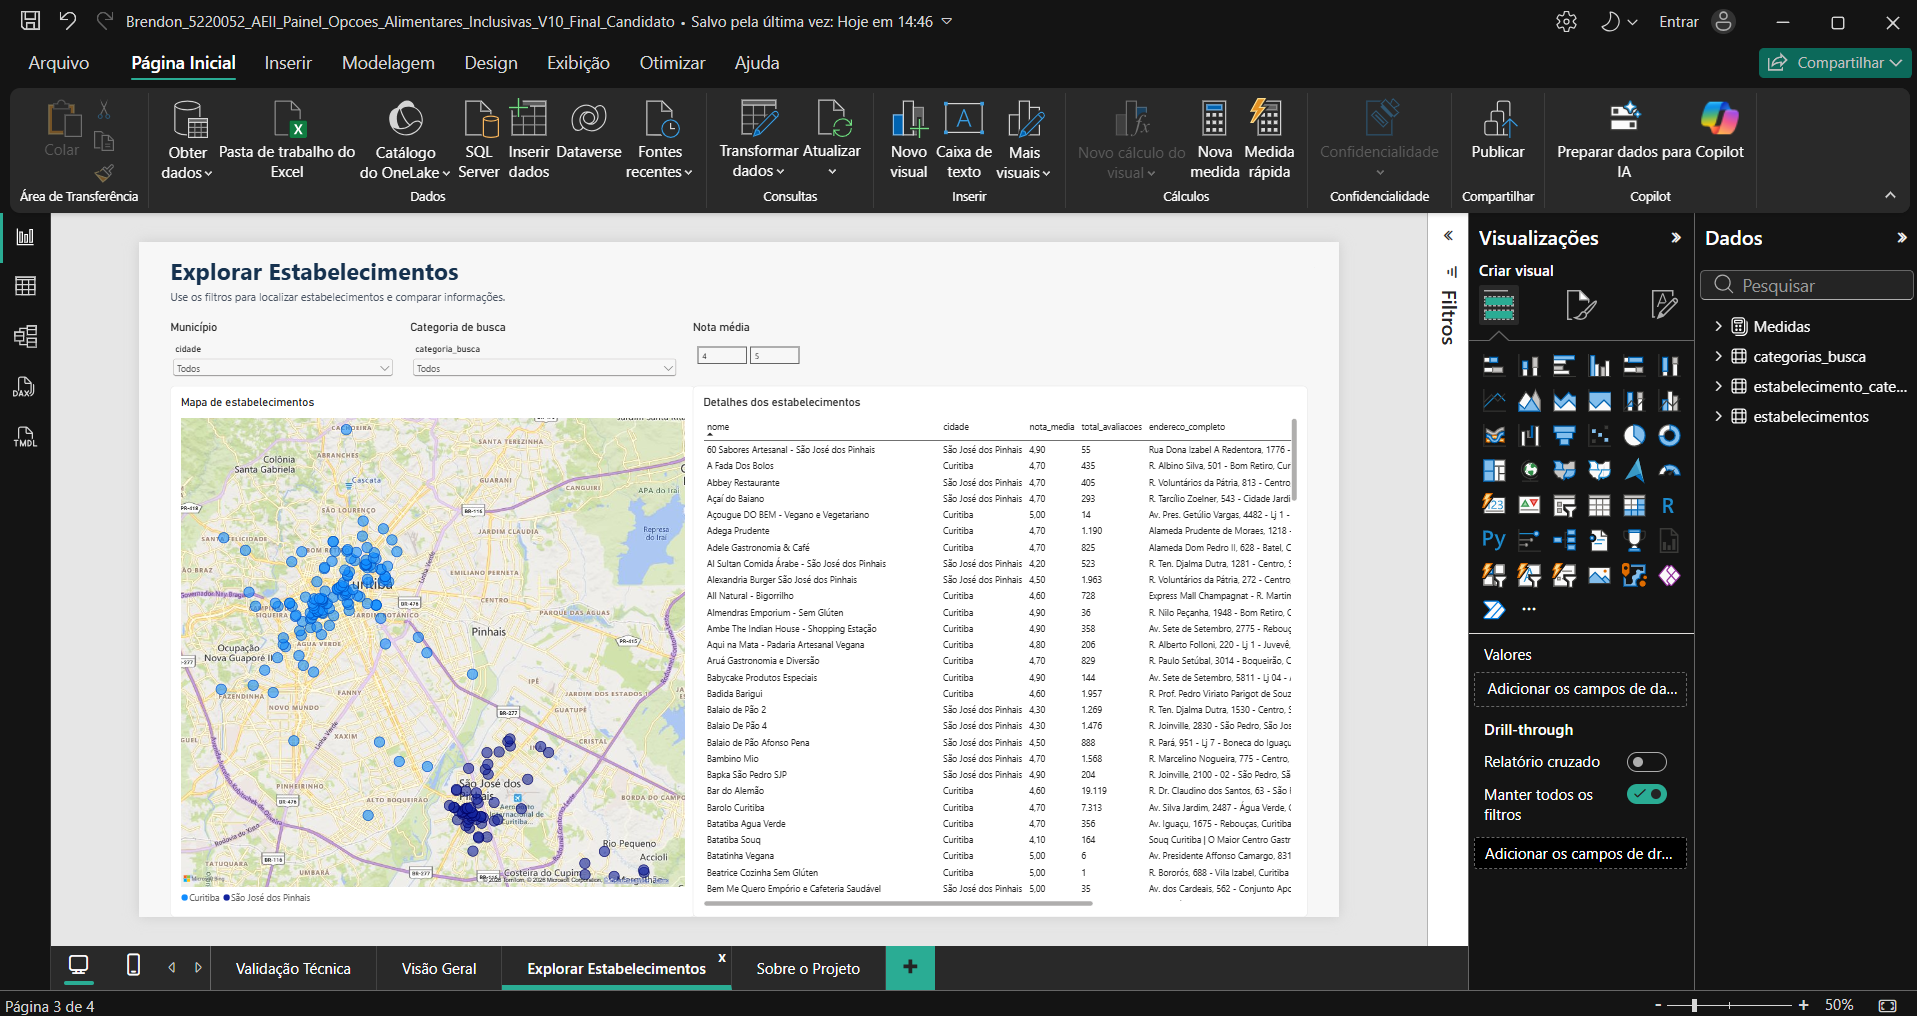

The dashboard page shown, as its layout file describes it:
{"tool":"powerbi","page":{"name":"Explorar Estabelecimentos","canvas":[1920,1080],"ordinal":2},"visuals":[{"type":"textbox","box":[50,20,1100,55],"z":0},{"type":"textbox","box":[50,75,1300,35],"z":1},{"type":"slicer","title":"Município","fields":{"Values":["estabelecimentos.cidade"]},"box":[50,125,360,80],"z":2},{"type":"slicer","title":"Categoria de busca","fields":{"Values":["categorias_busca.categoria_busca"]},"box":[435,125,430,80],"z":3},{"type":"map","title":"Mapa de estabelecimentos","fields":{"Y":["estabelecimentos.latitude"],"X":["estabelecimentos.longitude"],"Series":["estabelecimentos.cidade"]},"box":[50,230,840,760],"z":4},{"type":"tableEx","title":"Detalhes dos estabelecimentos","fields":{"Values":["estabelecimentos.nome","estabelecimentos.cidade","estabelecimentos.nota_media","estabelecimentos.total_avaliacoes","estabelecimentos.endereco_completo"]},"box":[920,230,950,760],"z":5},{"type":"slicer","title":"Nota média","fields":{"Values":["estabelecimentos.nota_media"]},"box":[885,125,300,80],"z":3500}]}

Visuals, with their boxes on the page's 1920x1080 design canvas (x1, y1, x2, y2). These are canvas units, not pixel positions in the 1917x1016 screenshot, which may show the page scaled, cropped or inside an application window:
textbox: bbox(50, 20, 1150, 75)
textbox: bbox(50, 75, 1350, 110)
"Município" slicer: bbox(50, 125, 410, 205)
"Categoria de busca" slicer: bbox(435, 125, 865, 205)
"Mapa de estabelecimentos" map: bbox(50, 230, 890, 990)
"Detalhes dos estabelecimentos" tableEx: bbox(920, 230, 1870, 990)
"Nota média" slicer: bbox(885, 125, 1185, 205)
